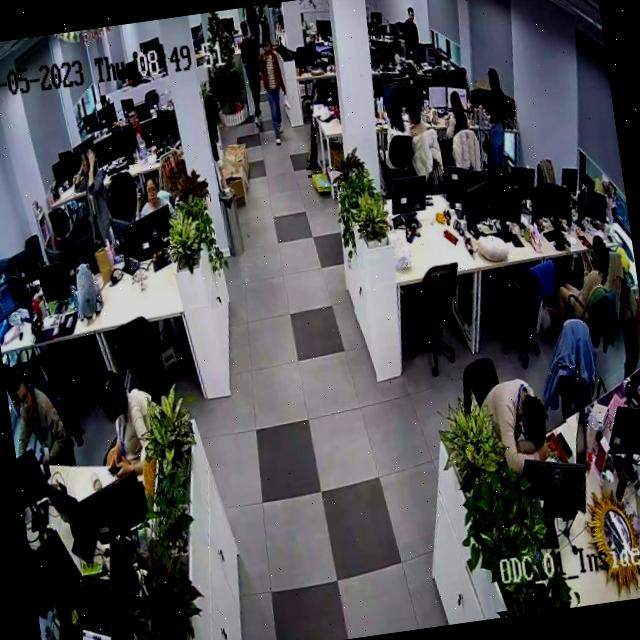person: (92, 367, 166, 487), (5, 362, 75, 473), (544, 235, 623, 333), (480, 376, 560, 467), (71, 145, 117, 252), (256, 36, 295, 149), (477, 66, 516, 167), (237, 20, 271, 129), (444, 91, 480, 144), (384, 94, 414, 152), (137, 173, 173, 218), (407, 100, 437, 153), (400, 7, 423, 56), (125, 105, 144, 145)
